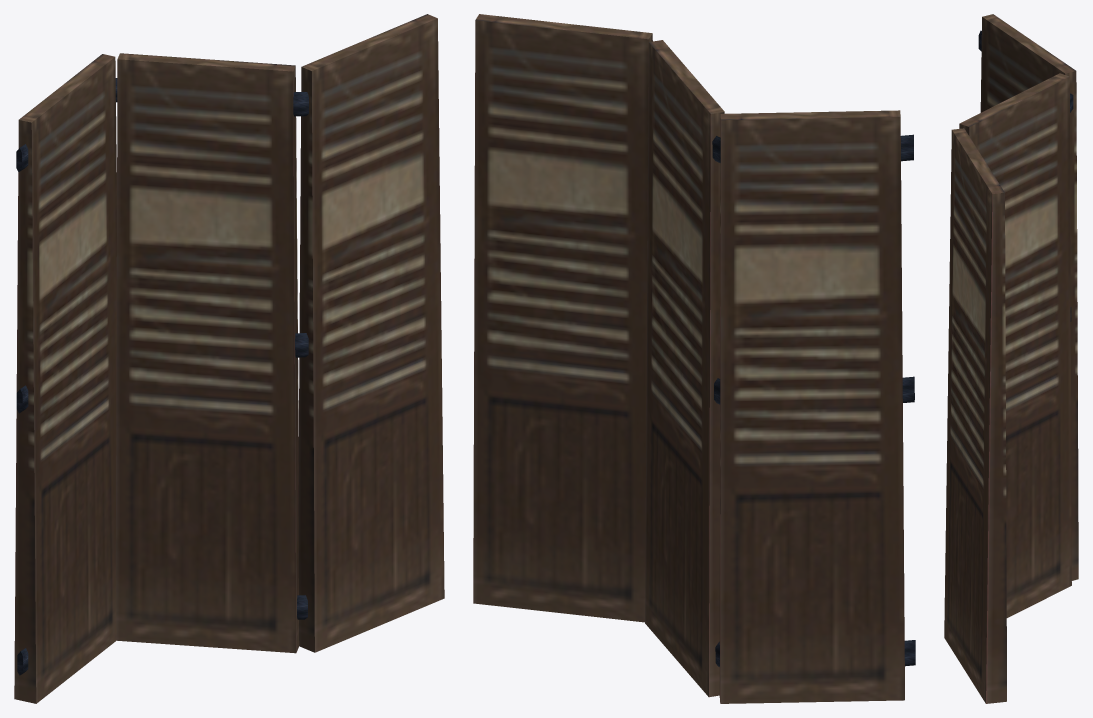
Rendered from d_yz_shouyou_pingfeng01_qt.FBX.
The picture shows the model from 3 angles, left to right: view 1: azimuth 30°, elevation 25°; view 2: azimuth 150°, elevation 25°; view 3: azimuth 270°, elevation 25°; orthographic projection. The views are drawn at different scales.
Parts seen in each view (by area): view 1: d_yz_shouyou_shafa01_qt; view 2: d_yz_shouyou_shafa01_qt; view 3: d_yz_shouyou_shafa01_qt.
Part boxes in pixels (x1,y1,x2,y2): d_yz_shouyou_shafa01_qt: (14,14,444,703); d_yz_shouyou_shafa01_qt: (473,14,915,703); d_yz_shouyou_shafa01_qt: (944,14,1078,703).
Size of the model in its own units: 99.82 by 128 by 30.75.
